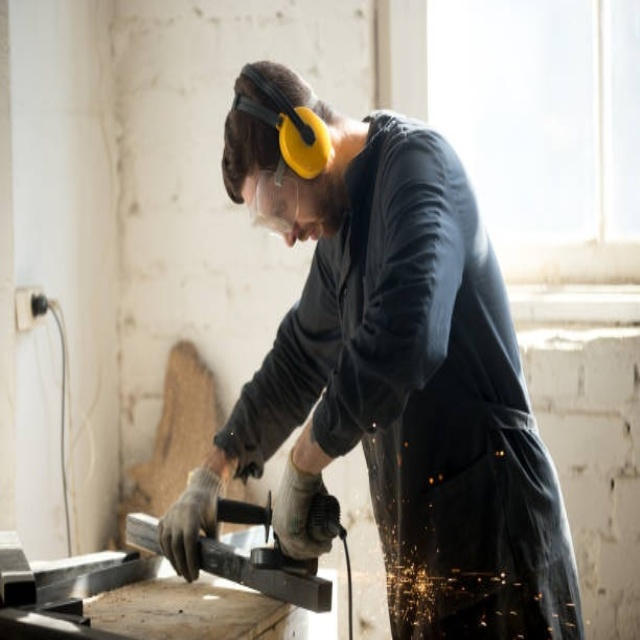Gafas: (243, 151, 304, 235)
Guantes: (271, 444, 338, 561), (157, 467, 224, 582)
Sin_mascara: (294, 218, 330, 251)
